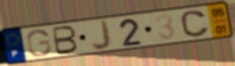2: (116, 16, 146, 49)
3: (155, 13, 178, 41)
B: (51, 25, 80, 56)
C: (179, 9, 211, 38)
G: (25, 28, 53, 58)
J: (91, 19, 114, 52)
